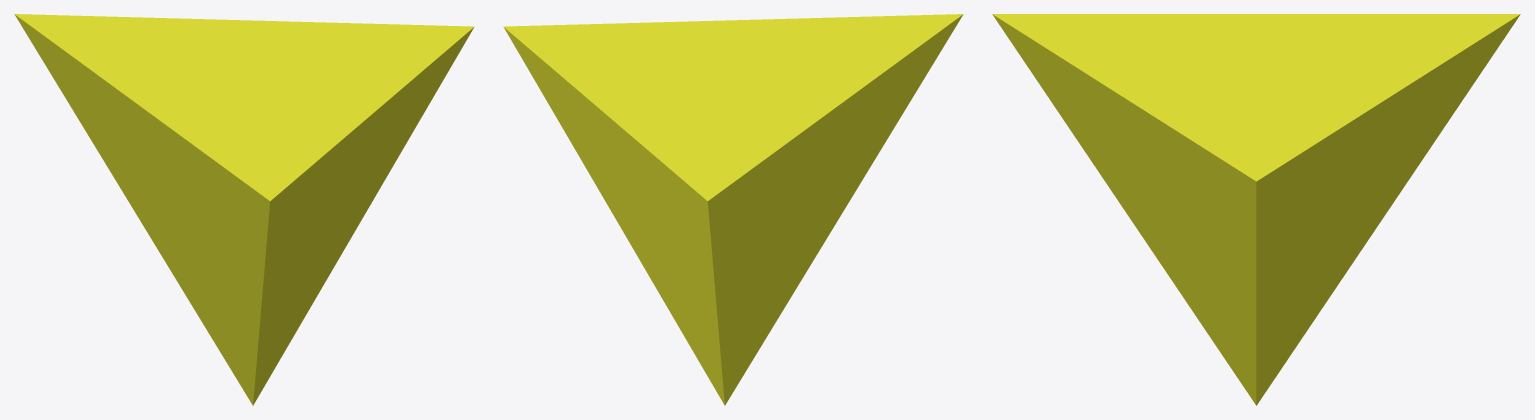
The model's file is EndTriedra.fbx.
3 views of the same model, side by side, from view 1: azimuth 30°, elevation 25°; view 2: azimuth 150°, elevation 25°; view 3: azimuth 270°, elevation 25° (orthographic). The views are drawn at different scales.
Visible parts, largest first — view 1: EndTriedra; view 2: EndTriedra; view 3: EndTriedra.
Boxes of the visible parts, left/top/right/bottom form: EndTriedra: left=14, top=14, right=474, bottom=405; EndTriedra: left=503, top=14, right=963, bottom=405; EndTriedra: left=992, top=14, right=1520, bottom=405.
Bounding box in the file's own units: 45 × 60 × 42.08.
